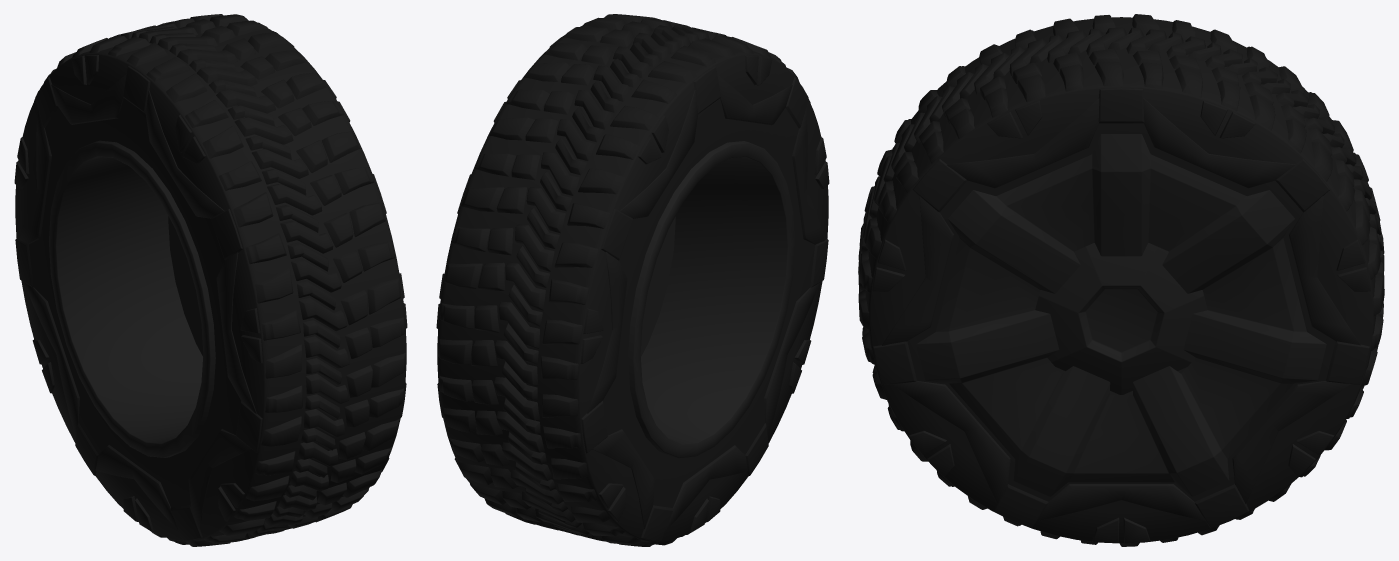
File: LTI.obj
3 views of the same model, side by side, from view 1: azimuth 30°, elevation 25°; view 2: azimuth 150°, elevation 25°; view 3: azimuth 270°, elevation 25° (orthographic).
Parts seen in each view (by area): view 1: LTI; view 2: LTI; view 3: LTI.
Part boxes in pixels (x1,y1,x2,y2): LTI: (14,14,407,546); LTI: (436,14,829,546); LTI: (858,14,1384,546).
Size of the model in its own units: 0.4184 by 1.08 by 1.08.
1 material, 1 textured.
